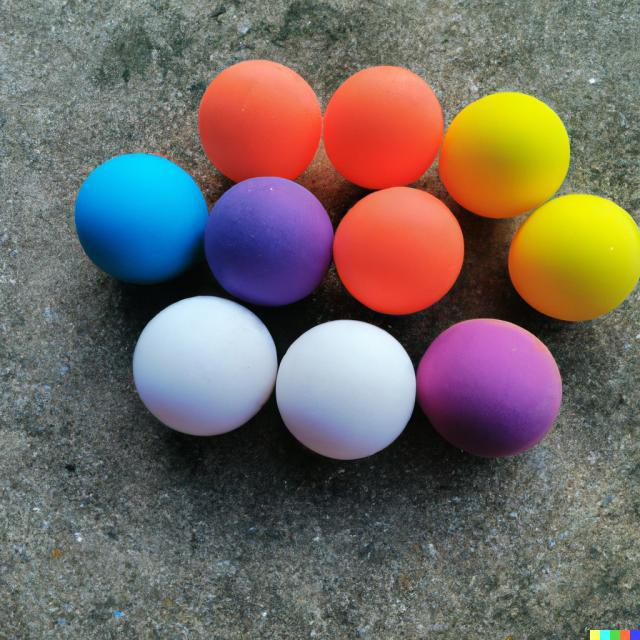white: (130, 295, 278, 438), (278, 320, 418, 460)
